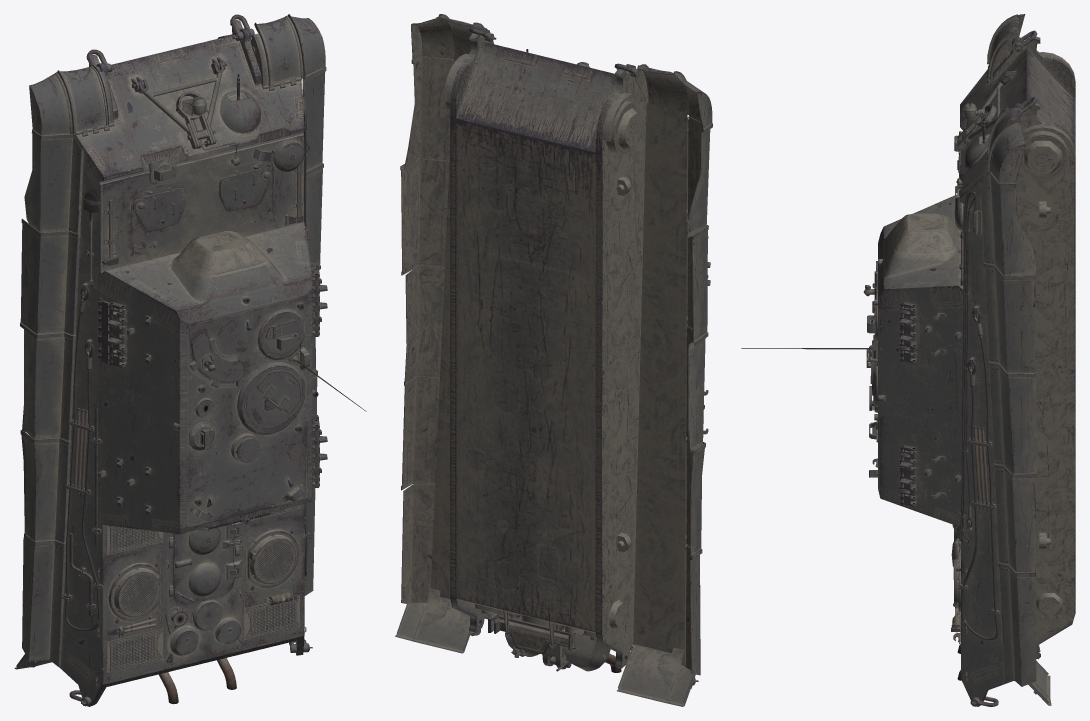
Rendered from Hull.glb.
3 renders of one model, left to right at view 1: azimuth 30°, elevation 25°; view 2: azimuth 150°, elevation 25°; view 3: azimuth 270°, elevation 25°, orthographic. The views are drawn at different scales.
Visible parts, largest first — view 1: set_0_group_0; view 2: set_0_group_0; view 3: set_0_group_0.
Part boxes in pixels (x1=…): set_0_group_0: x1=14, y1=14, x2=366, y2=706; set_0_group_0: x1=395, y1=14, x2=712, y2=706; set_0_group_0: x1=741, y1=14, x2=1075, y2=706.
Size of the model in its own units: 3.79 by 7.95 by 4.01.
1 material, 1 textured.
